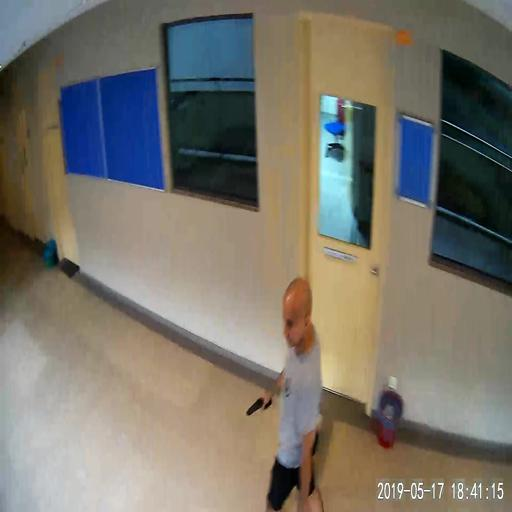pistol: (245, 392, 272, 414)
